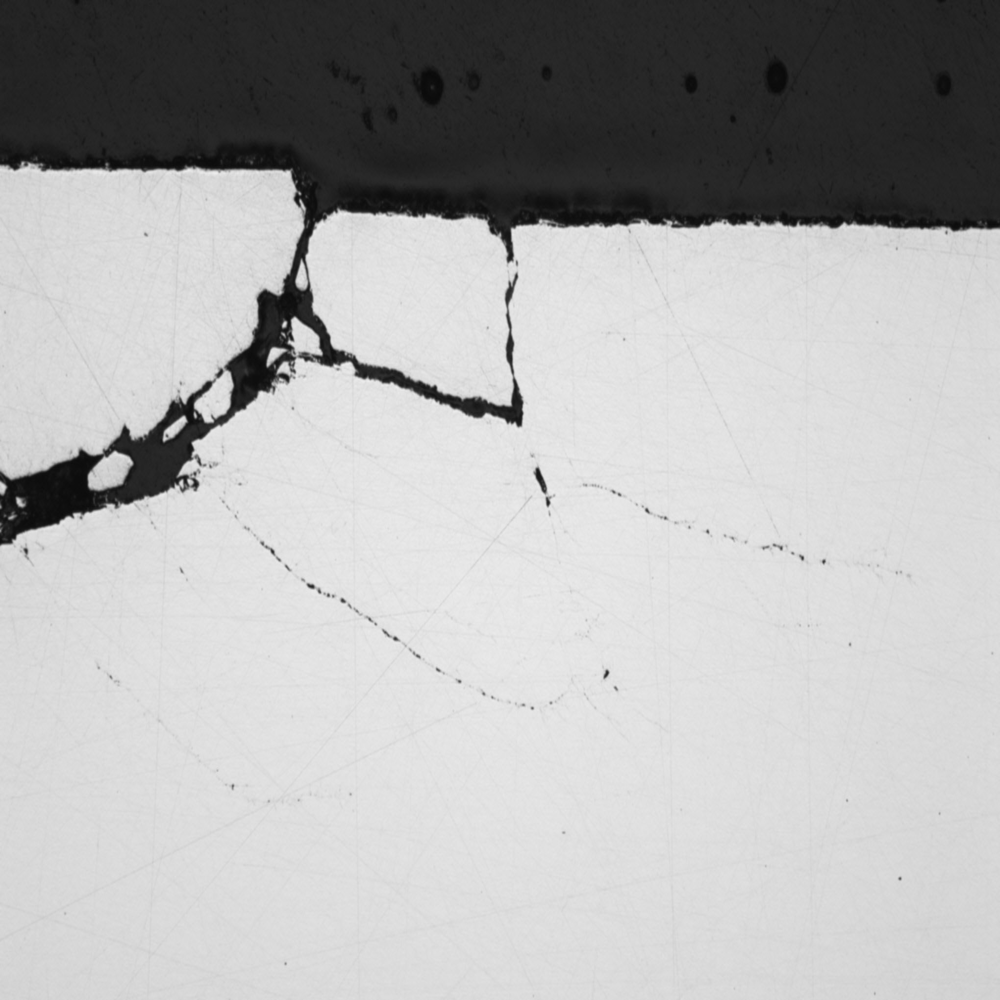crack: (19, 151, 548, 678)
